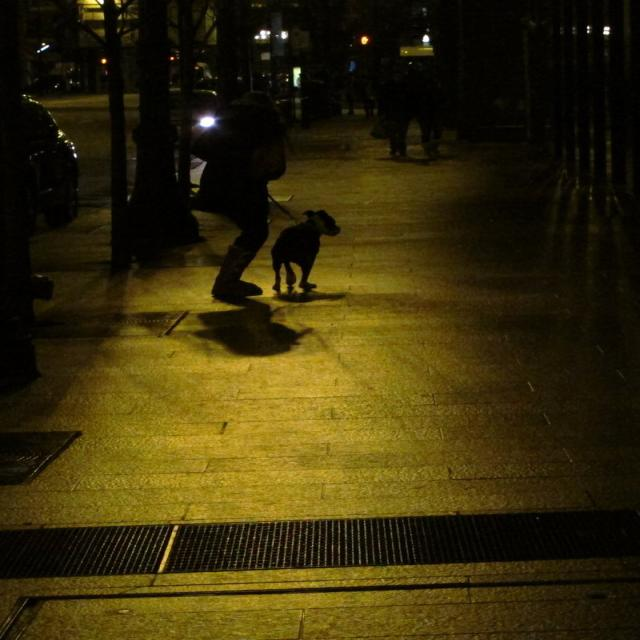Dog: (265, 194, 388, 324)
